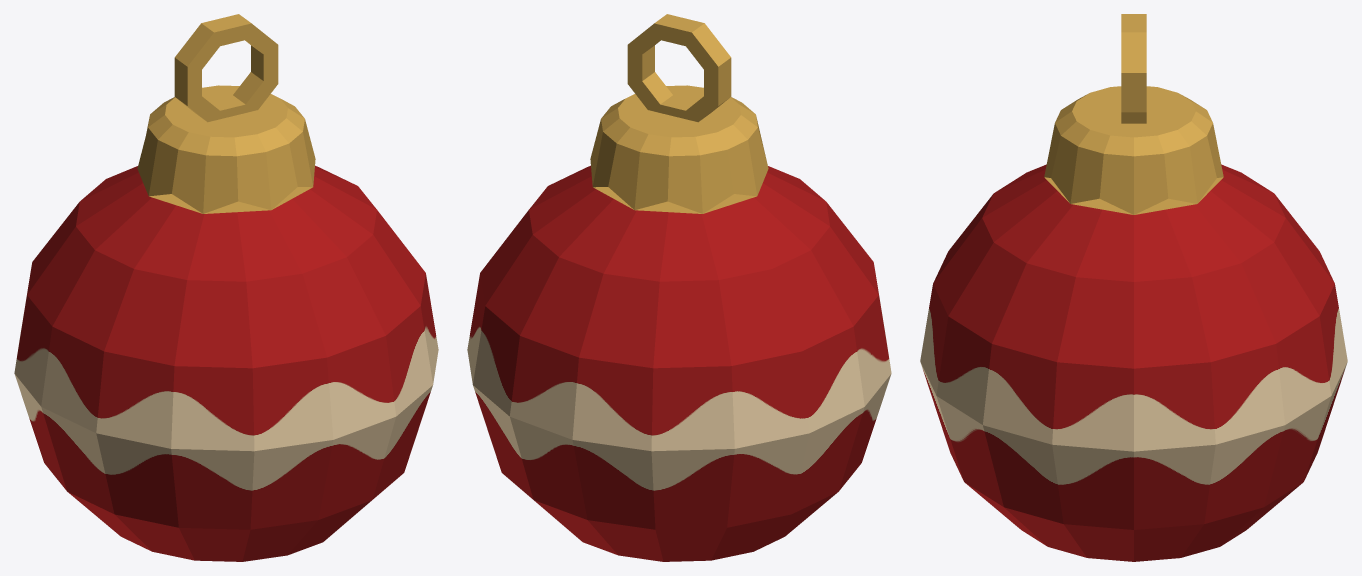
The model's file is 01_Christmas_Bauble.glb.
3 renders of one model, left to right at view 1: azimuth 30°, elevation 25°; view 2: azimuth 150°, elevation 25°; view 3: azimuth 270°, elevation 25°, orthographic.
Parts seen in each view (by area): view 1: 01_Christmas_Bauble, 01_Christmas_Bauble_Gold; view 2: 01_Christmas_Bauble, 01_Christmas_Bauble_Gold; view 3: 01_Christmas_Bauble, 01_Christmas_Bauble_Gold.
Part boxes in pixels (<box>): 01_Christmas_Bauble: <box>14,165,438,561</box>; 01_Christmas_Bauble_Gold: <box>137,14,315,213</box>; 01_Christmas_Bauble: <box>467,165,891,561</box>; 01_Christmas_Bauble_Gold: <box>590,14,768,213</box>; 01_Christmas_Bauble: <box>920,164,1347,561</box>; 01_Christmas_Bauble_Gold: <box>1044,14,1223,214</box>.
Bounding box in the file's own units: 2 × 2.69 × 2.
2 materials, 1 textured.
